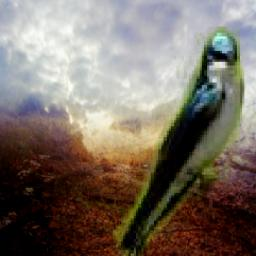Swallow: (113, 28, 244, 256)
